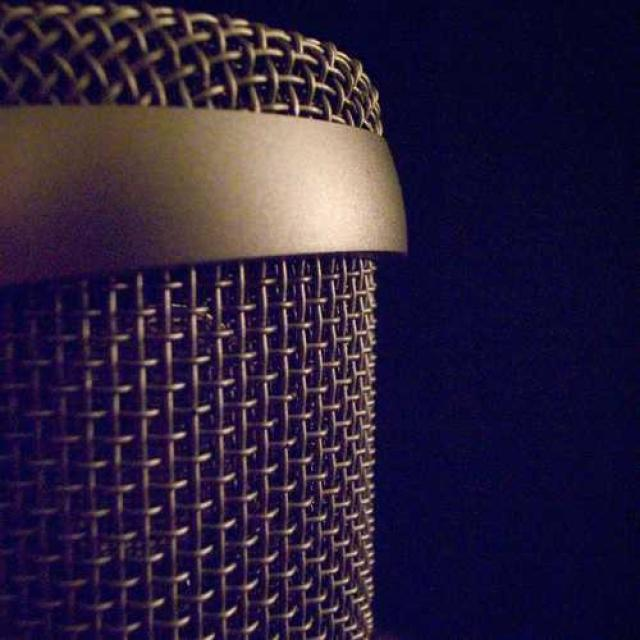microphone: (4, 8, 424, 640)
